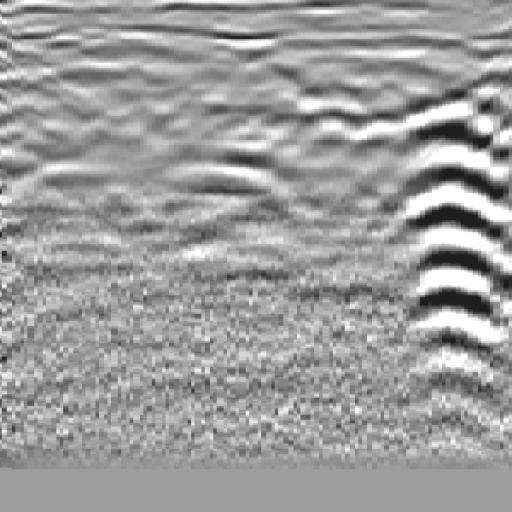metalic: (153, 30, 323, 254)
nonmetalic: (388, 77, 512, 396)
